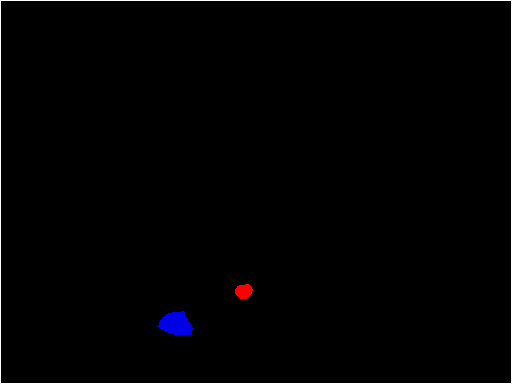chipped: (166, 313, 189, 338)
detached: (233, 282, 252, 299)
